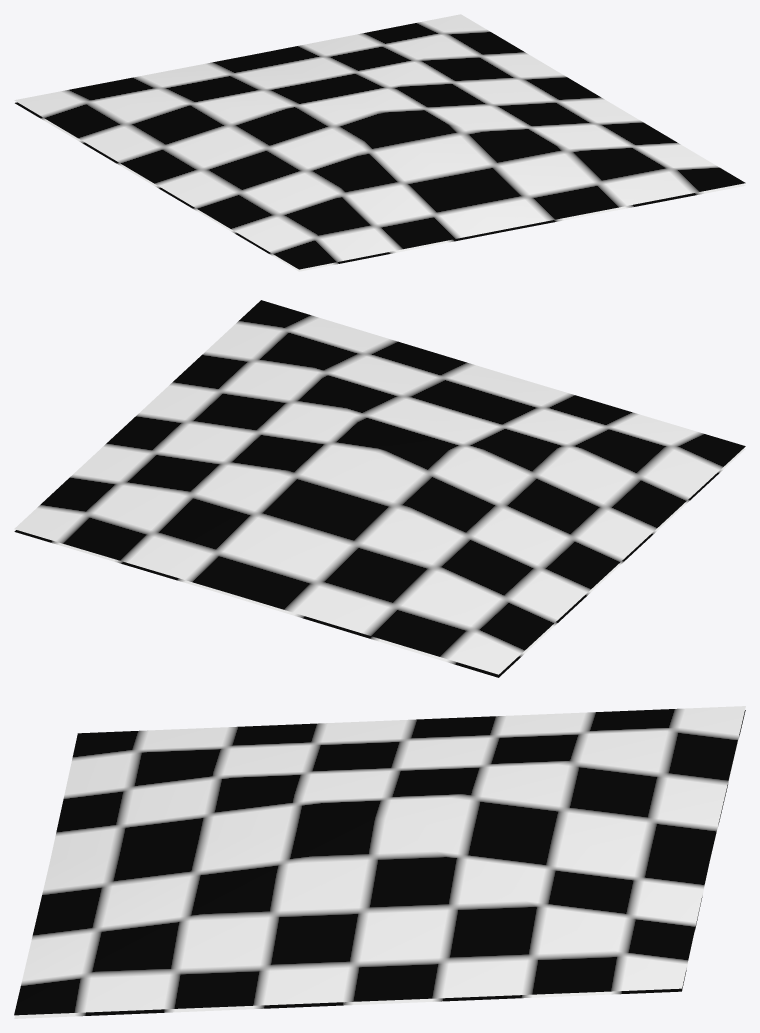
Rendered from initqu67.dae.
3 renders of one model, top to bottom at view 1: azimuth 30°, elevation 25°; view 2: azimuth 150°, elevation 25°; view 3: azimuth 270°, elevation 25°, orthographic. The views are drawn at different scales.
Parts seen in each view (by area): view 1: item; view 2: item; view 3: item.
Part boxes in pixels (x1,y1,x2,y2): item: (14,14,745,271); item: (14,300,745,677); item: (14,706,745,1018).
Size of the model in its own units: 1.58 by 1.58 by 0.1068.
Materials: 1 (1 with a texture image).
